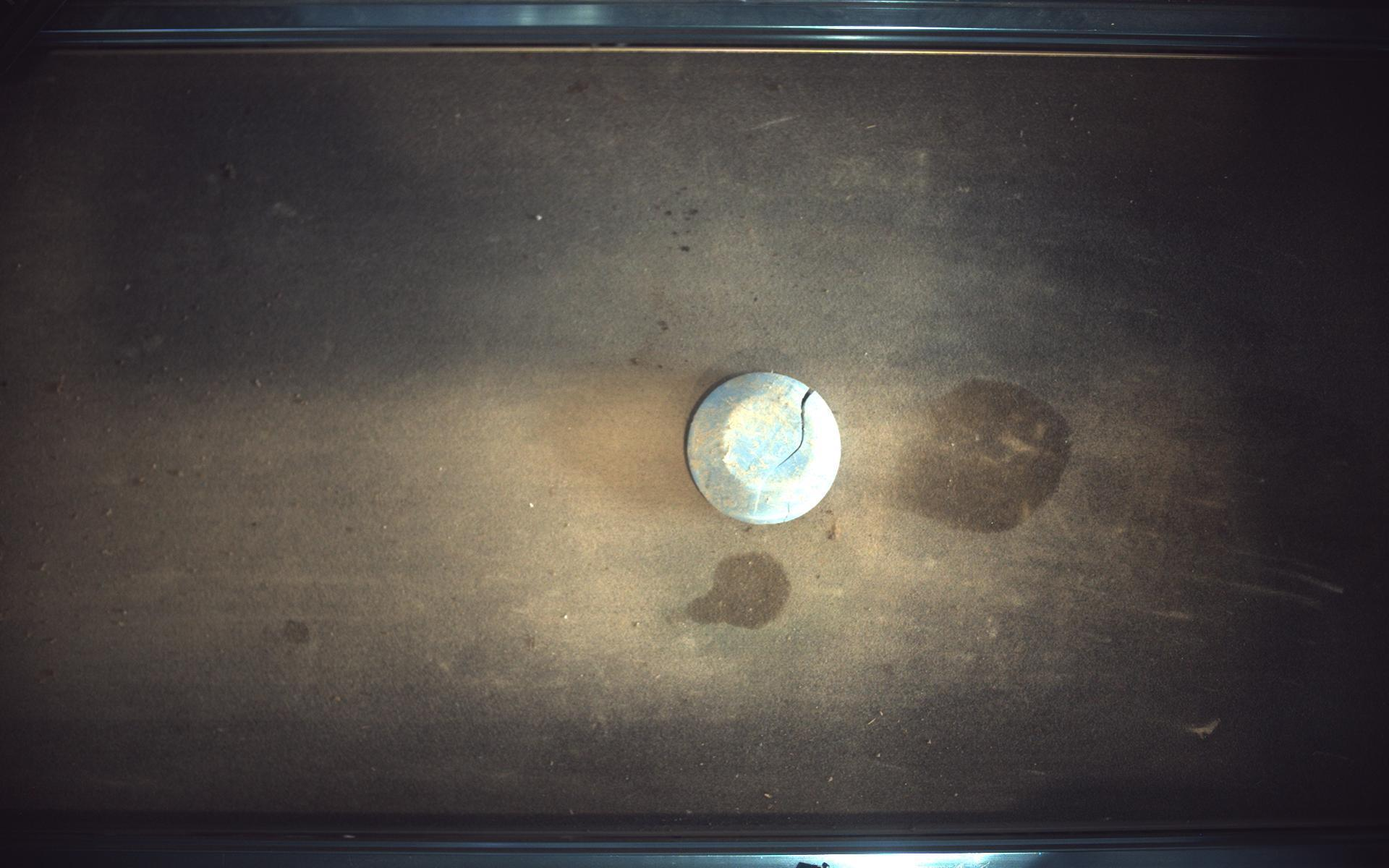plastic: (689, 373, 842, 524)
